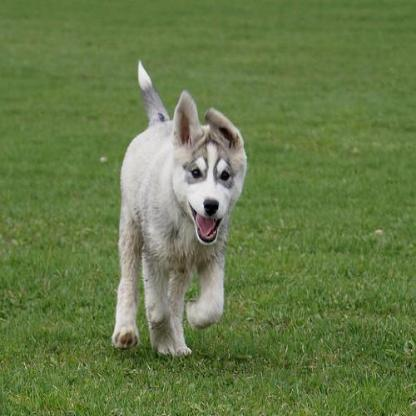Eskimo_dog: (107, 57, 247, 361)
